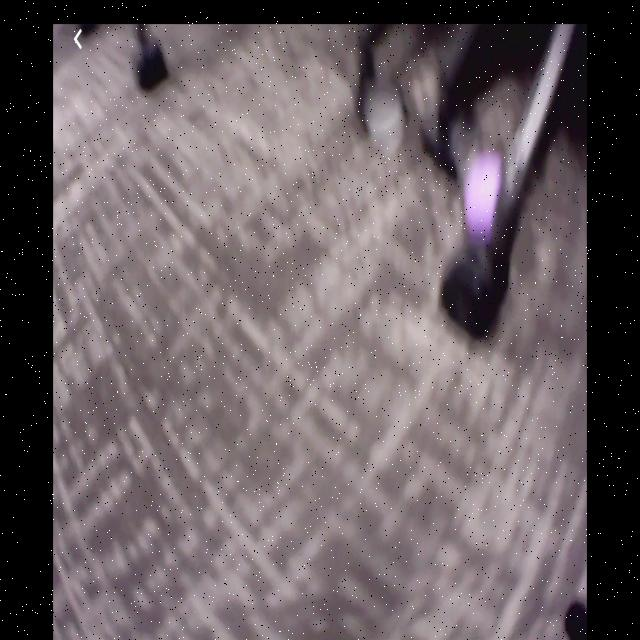ball: (464, 152, 508, 234)
